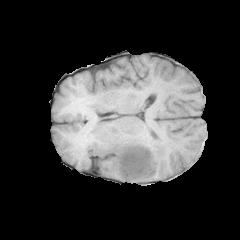glioma: (111, 130, 167, 179)
